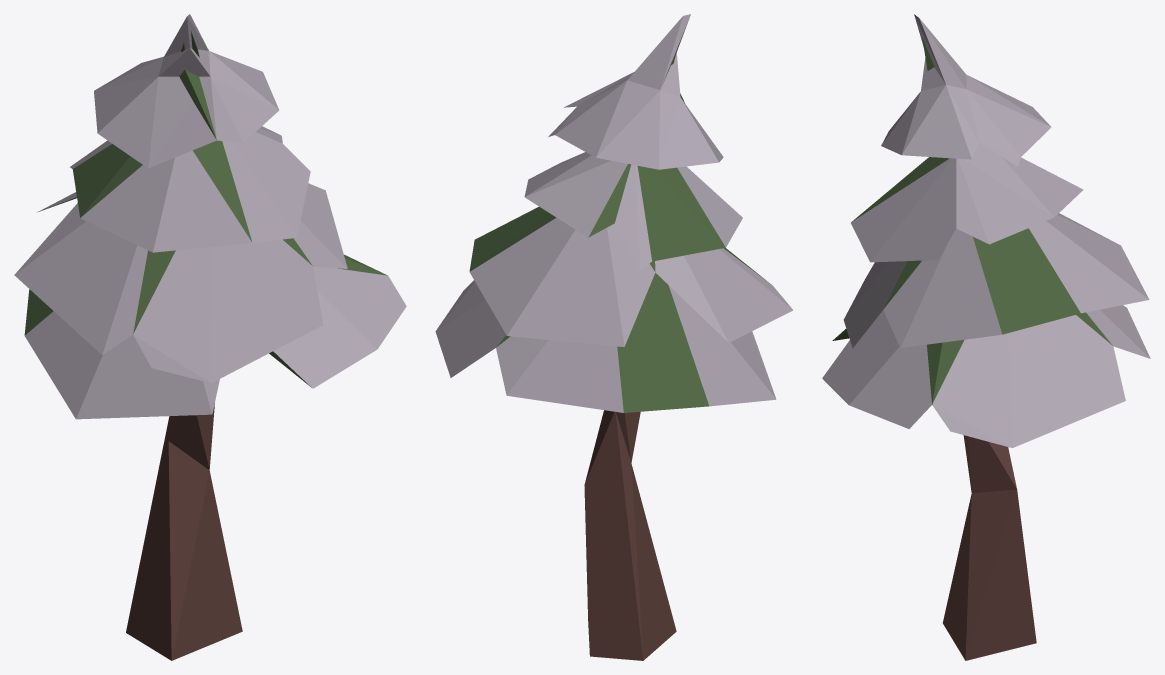
Rendered from pine-tree-show-5.gltf.
3 views of the same model, side by side, from view 1: azimuth 30°, elevation 25°; view 2: azimuth 150°, elevation 25°; view 3: azimuth 270°, elevation 25° (orthographic). The views are drawn at different scales.
Parts seen in each view (by area): view 1: PineTree_Snow_5_Cylinder.076; view 2: PineTree_Snow_5_Cylinder.076; view 3: PineTree_Snow_5_Cylinder.076.
Boxes of the visible parts, left/top/right/bottom form: PineTree_Snow_5_Cylinder.076: left=14, top=14, right=406, bottom=660; PineTree_Snow_5_Cylinder.076: left=435, top=14, right=793, bottom=660; PineTree_Snow_5_Cylinder.076: left=822, top=14, right=1150, bottom=660.
Size of the model in its own units: 0.0143 by 0.027 by 0.0132.
